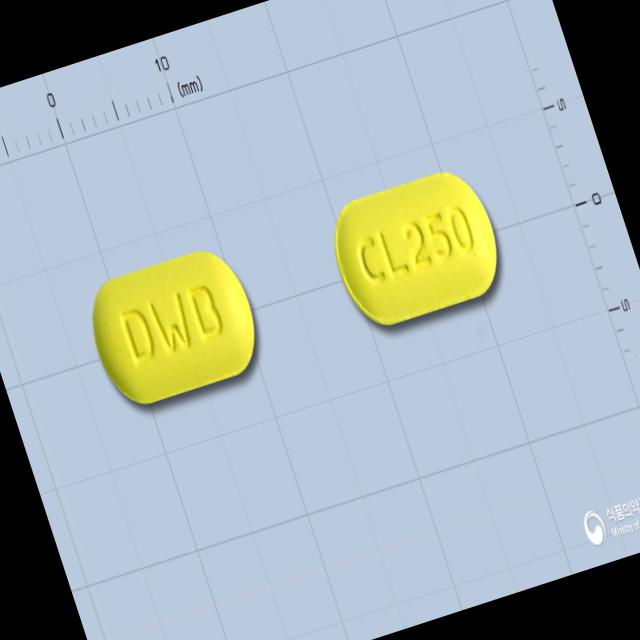Daewoong Clarithromycin: (320, 160, 512, 335), (78, 240, 271, 414)
